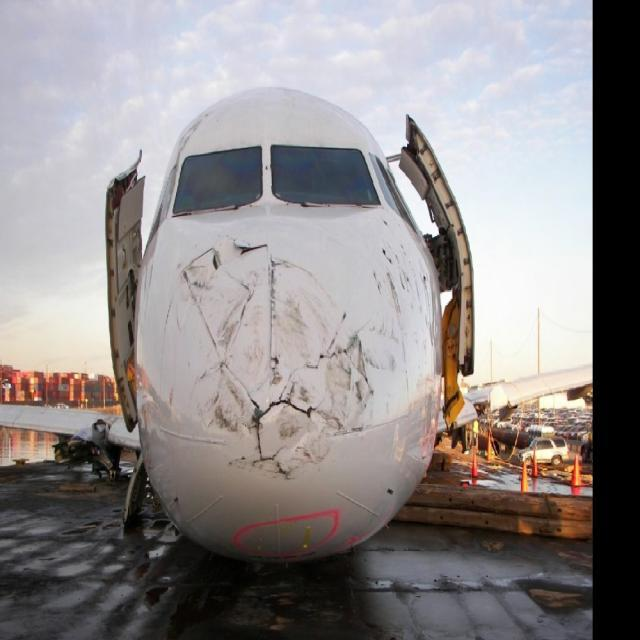crack: (174, 237, 376, 482)
